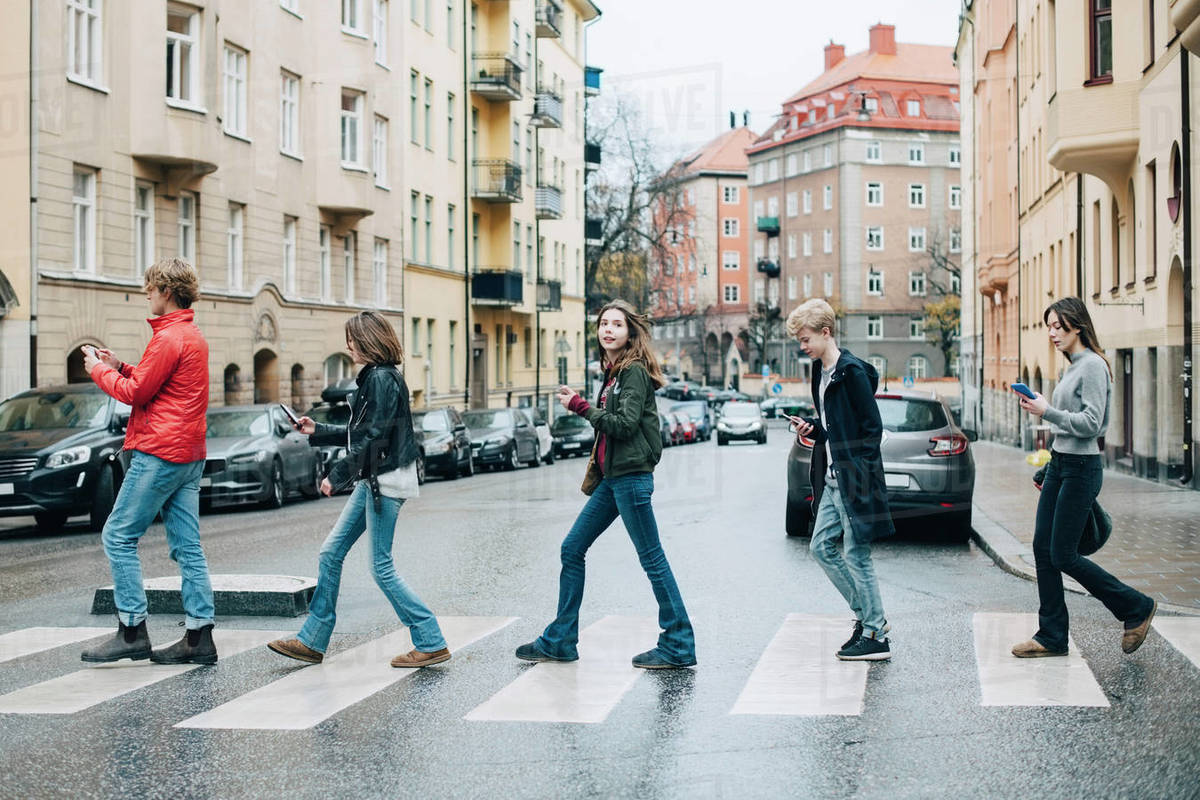person: (539, 303, 699, 673), (85, 259, 230, 662), (302, 312, 450, 665), (1020, 298, 1160, 653), (774, 304, 898, 659)
